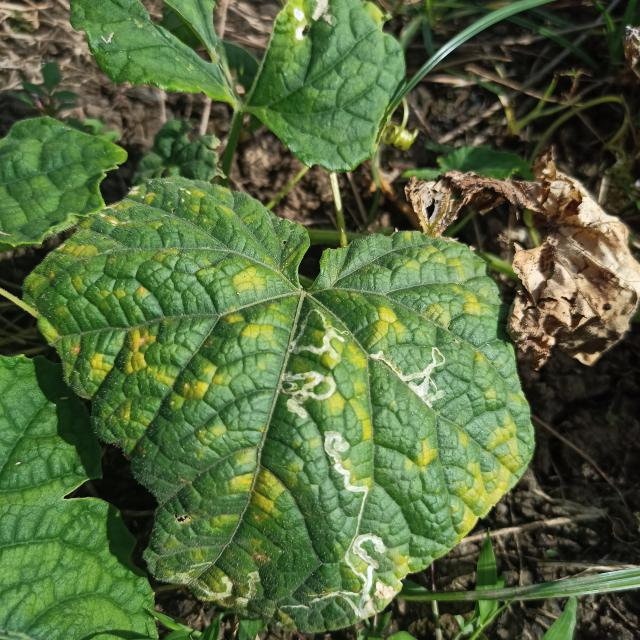disease_cucumber: (59, 169, 522, 618)
